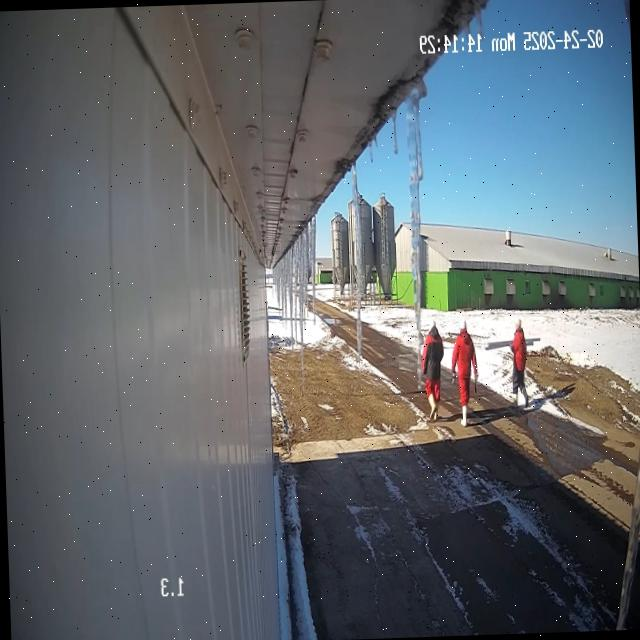Red uniform: (451, 322, 477, 425), (422, 324, 443, 419), (510, 319, 528, 406)
